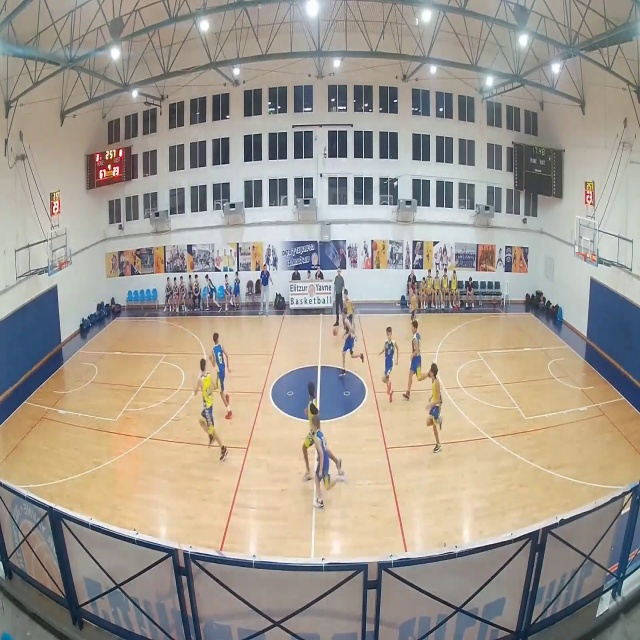Basketball: (332, 327, 338, 336)
